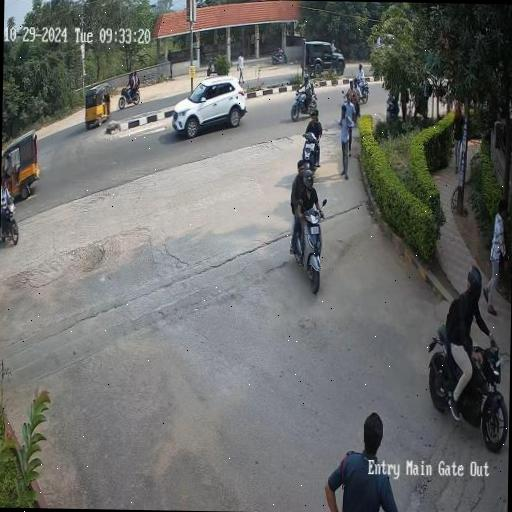helmet: (459, 265, 484, 322), (296, 167, 324, 201), (298, 72, 323, 90)
no helmet: (306, 110, 325, 135)
triple riding: (118, 64, 148, 108)
